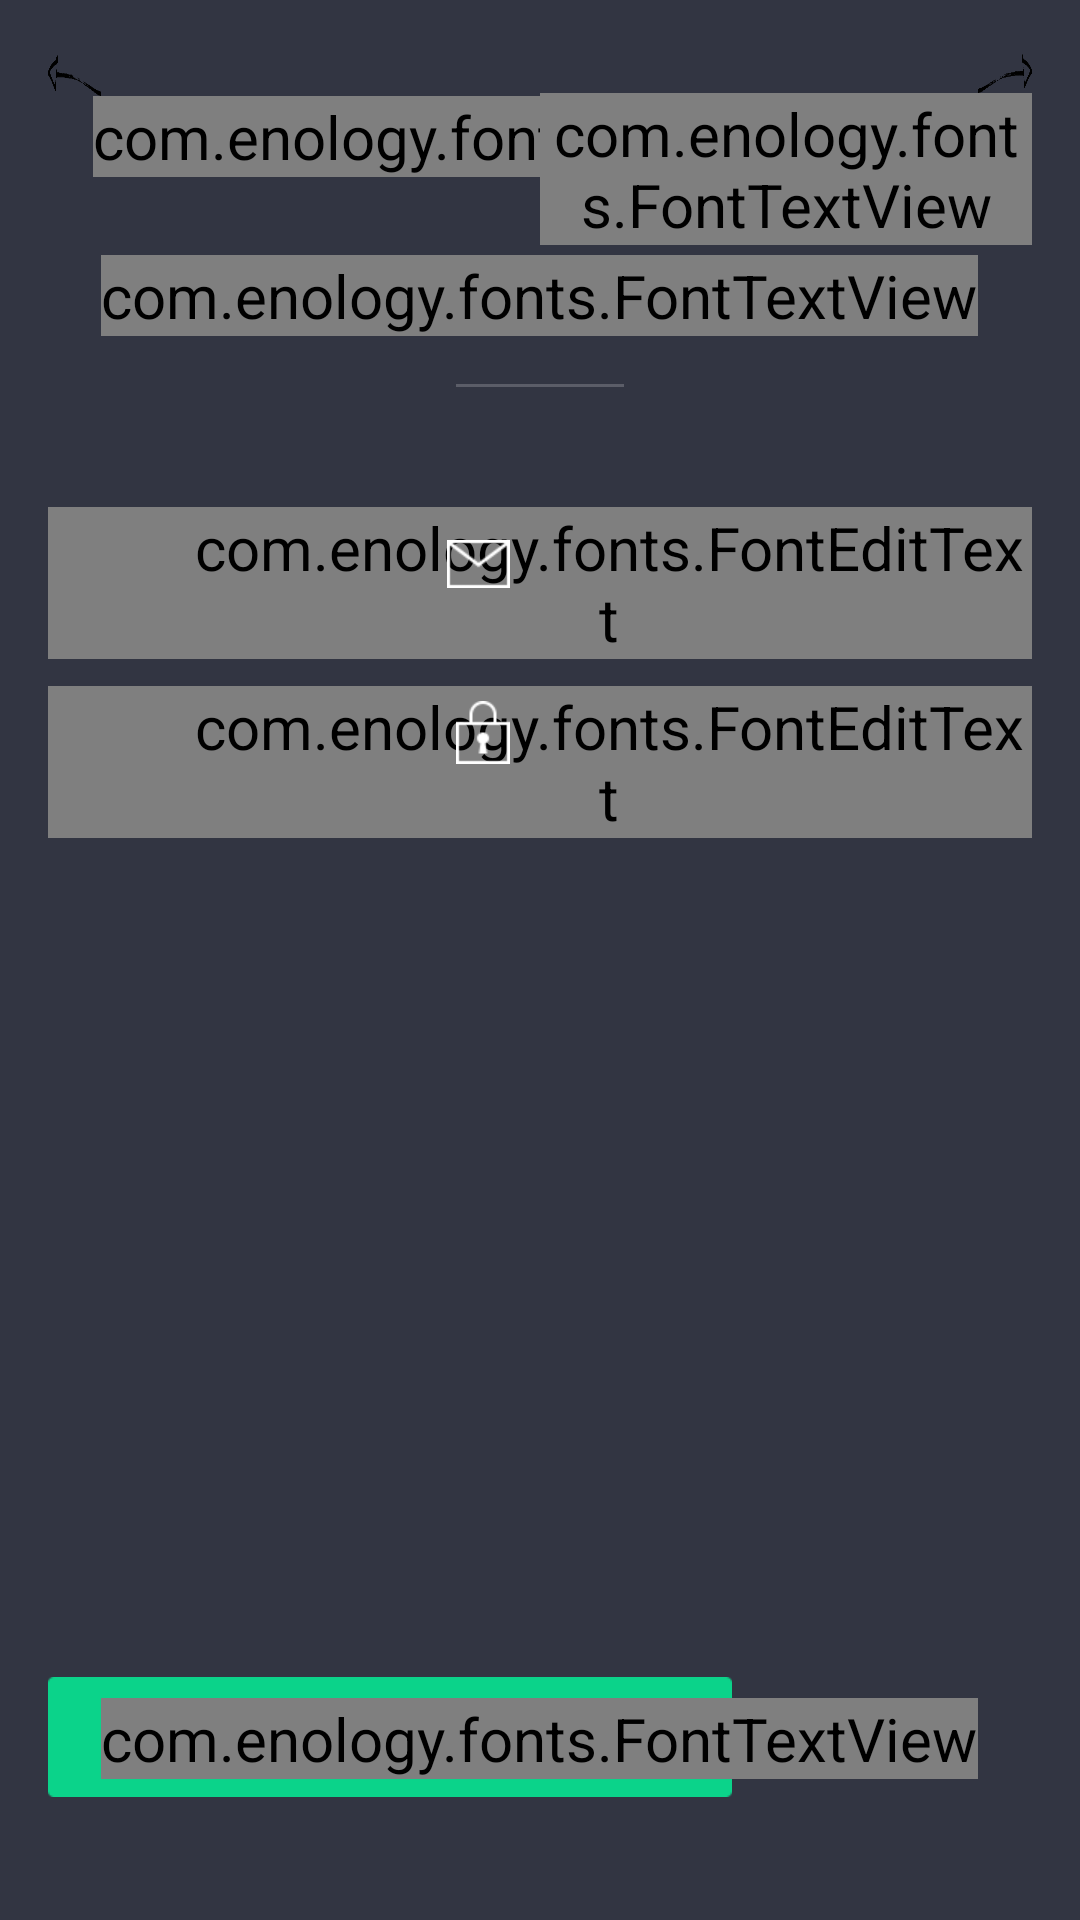

Locate icon controls on the screen. Image size 1080 × 1920, boxes as (x1, y1, x2, y2).
login arrow left: (48, 55, 82, 91)
login arrow right: (997, 54, 1032, 88)
password: (456, 701, 510, 764)
